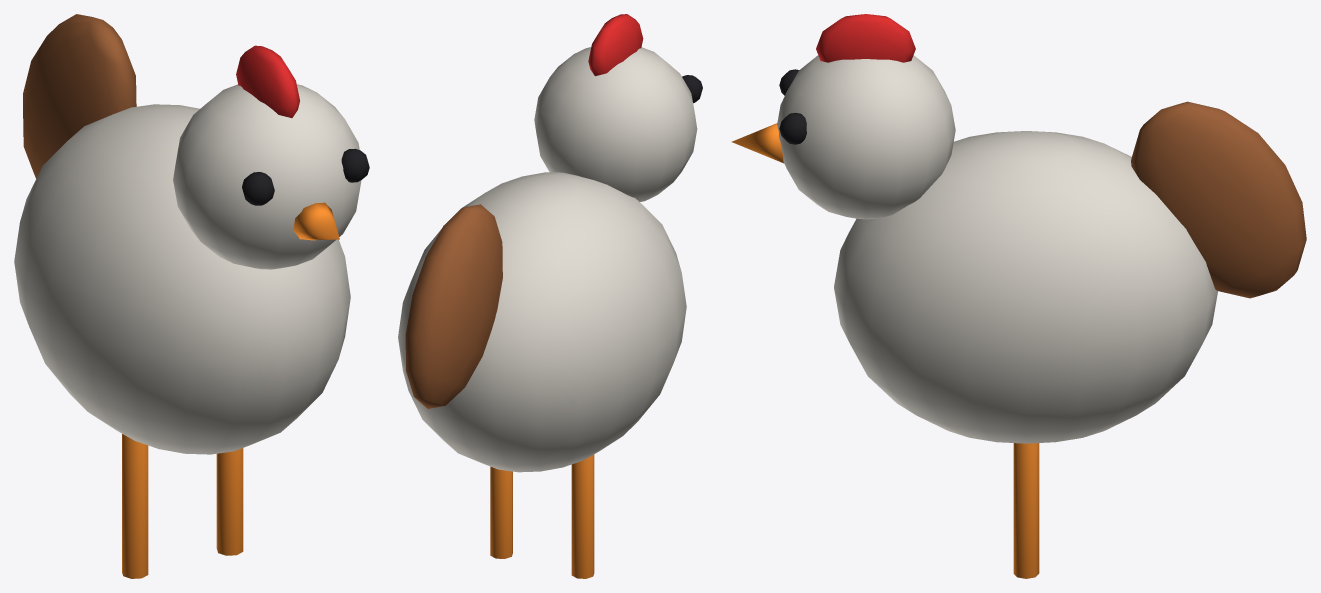
Rendered from chicken.glb.
The picture shows the model from 3 angles, left to right: view 1: azimuth 30°, elevation 25°; view 2: azimuth 150°, elevation 25°; view 3: azimuth 270°, elevation 25°; orthographic projection. The views are drawn at different scales.
Visible parts, largest first — view 1: Manok; view 2: Manok; view 3: Manok.
Boxes of the visible parts, bbox=[...] form: Manok: bbox=[14, 14, 369, 578]; Manok: bbox=[398, 14, 702, 578]; Manok: bbox=[731, 14, 1306, 578].
Size of the model in its own units: 0.45 by 0.925 by 0.8971.
